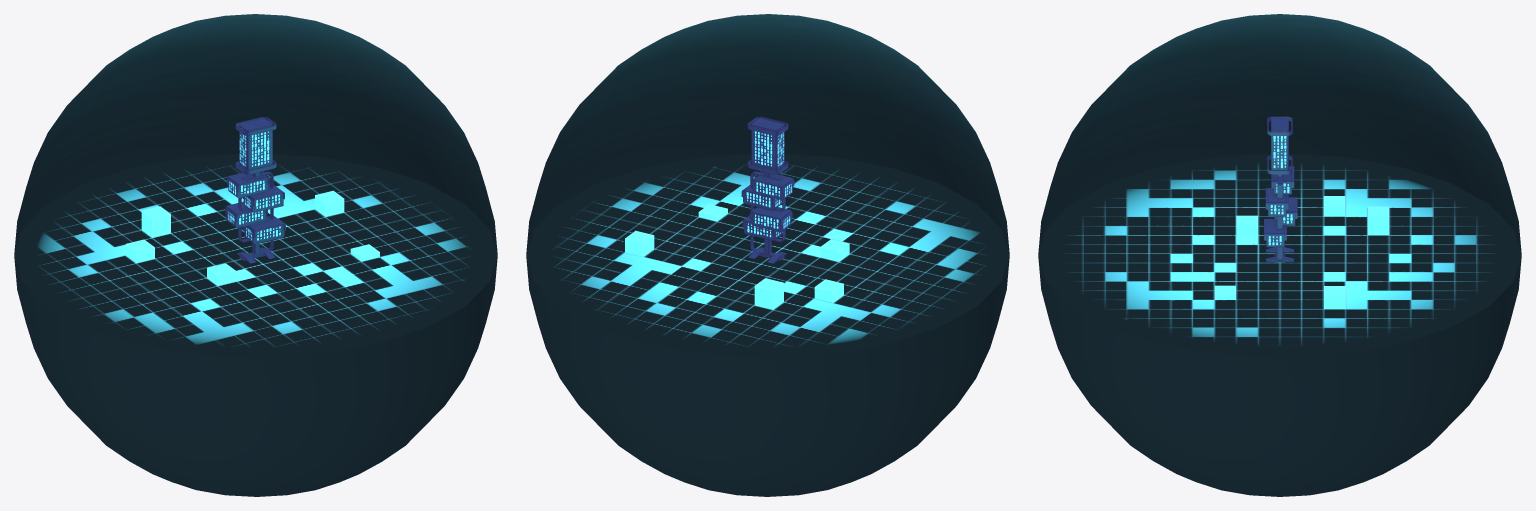
3 renders of one model, left to right at view 1: azimuth 30°, elevation 25°; view 2: azimuth 150°, elevation 25°; view 3: azimuth 270°, elevation 25°, orthographic.
Parts seen in each view (by area): view 1: background_geo, building_rooms_geo, building_frame_geo; view 2: background_geo, building_rooms_geo, building_frame_geo; view 3: background_geo, building_rooms_geo, building_frame_geo.
Part boxes in pixels (x1,y1,x2,y2): background_geo: [14, 14, 497, 496]; building_rooms_geo: [226, 118, 284, 244]; building_frame_geo: [225, 117, 285, 263]; background_geo: [526, 14, 1009, 496]; building_rooms_geo: [743, 118, 792, 240]; building_frame_geo: [741, 116, 794, 263]; background_geo: [1038, 14, 1521, 496]; building_rooms_geo: [1266, 118, 1295, 247]; building_frame_geo: [1264, 116, 1297, 262].
Size of the model in its own units: 19.62 by 19.59 by 19.62.
3 materials, 3 textured.
